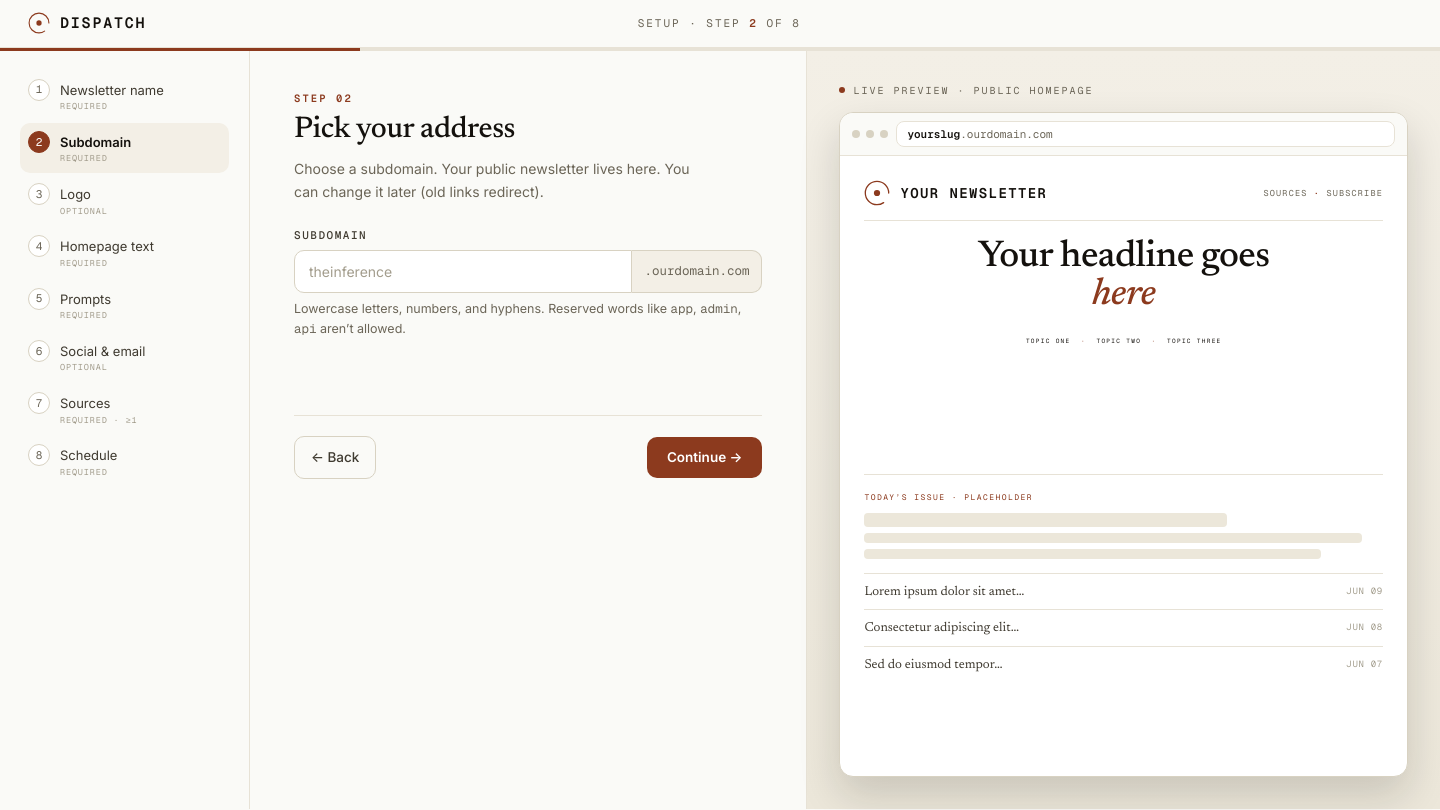
Test: test_REQ_033_slug_states (UI) › reports a available slug
The width and height of the screenshot is (1440, 810).
expect the heading "Pick your address" is shown: met, box [294, 115, 515, 145]
Type "candidate" into the field labelled "Subdomain" at (463, 271), box [294, 250, 632, 293]
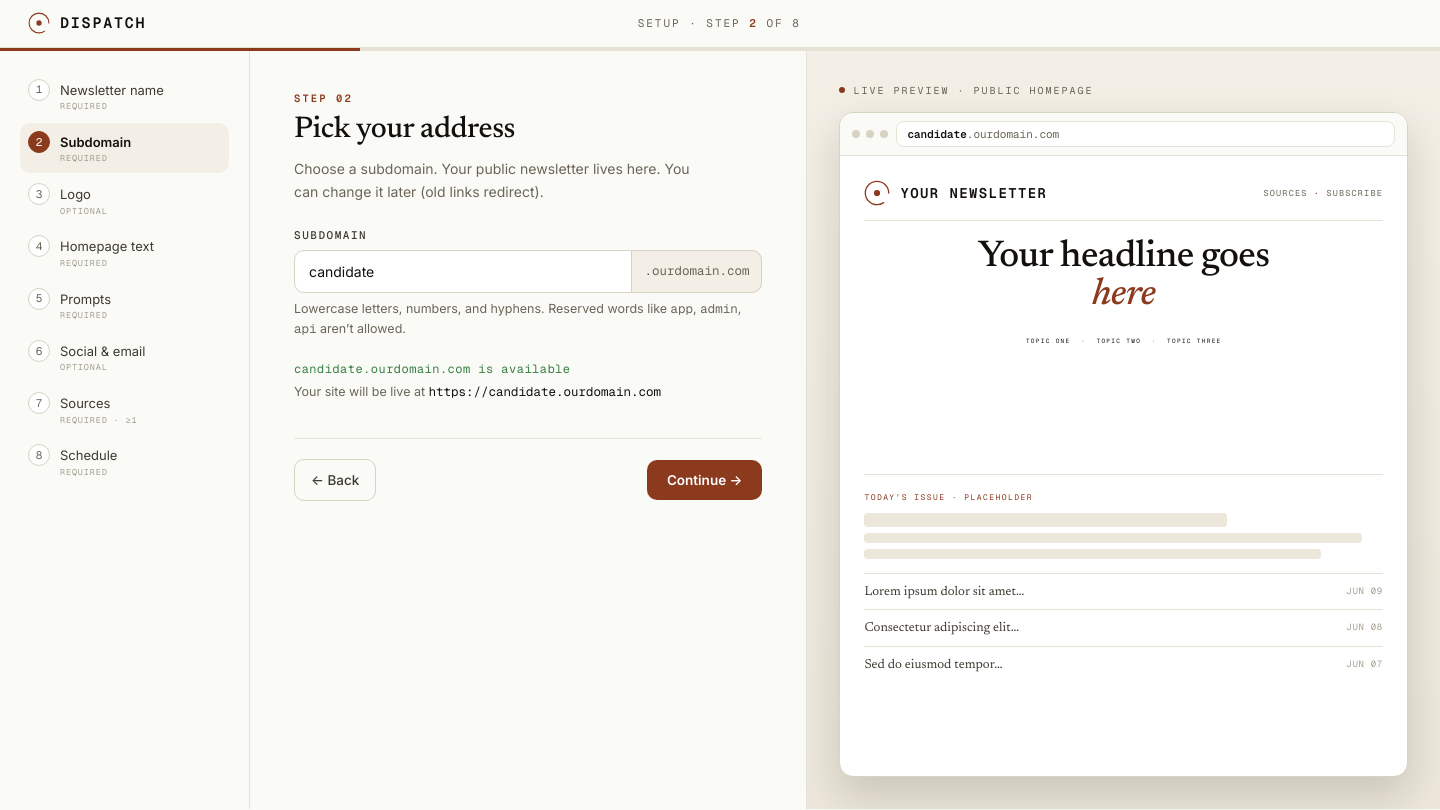
expect the text "candidate.ourdomain.com is available" is shown: met, box [294, 361, 570, 377]
